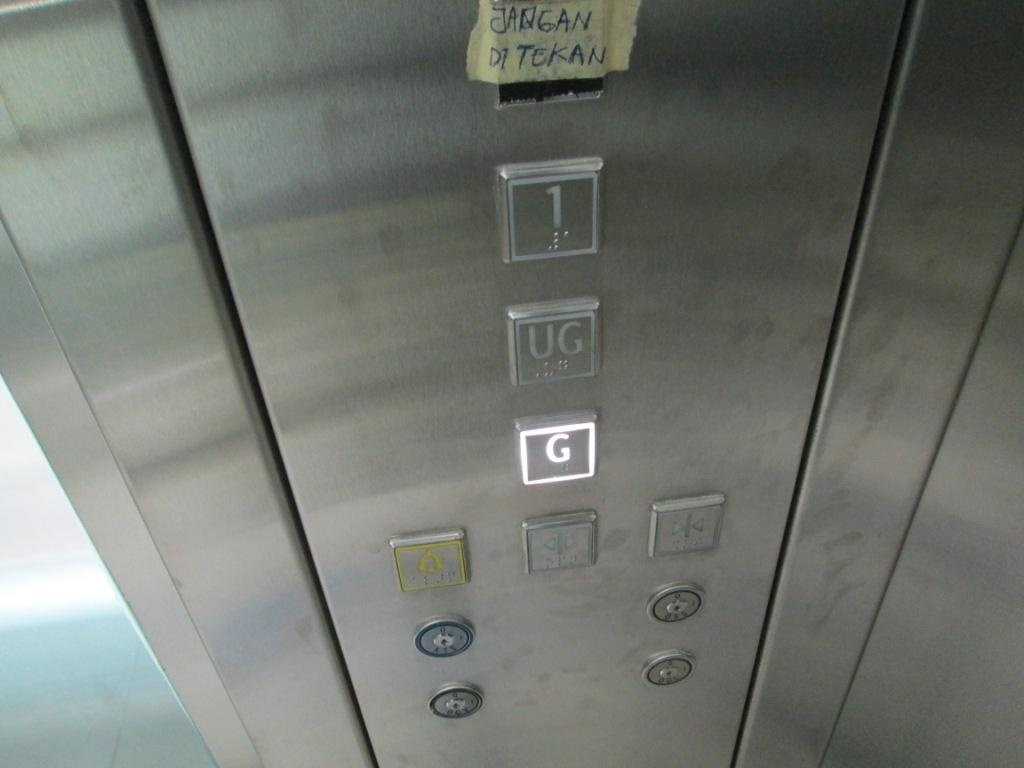1: (495, 157, 604, 264)
G: (512, 410, 599, 486)
UG: (504, 296, 602, 389)
alarm: (389, 526, 471, 592)
close: (648, 494, 726, 562)
keyhole: (411, 613, 476, 658), (642, 582, 707, 627), (638, 648, 699, 690), (426, 681, 485, 720)
open: (521, 510, 599, 575)
